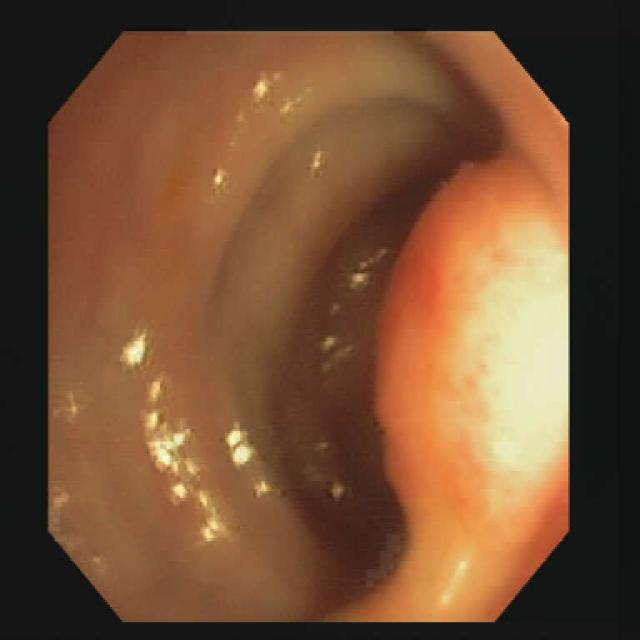tumor: (347, 160, 567, 616)
